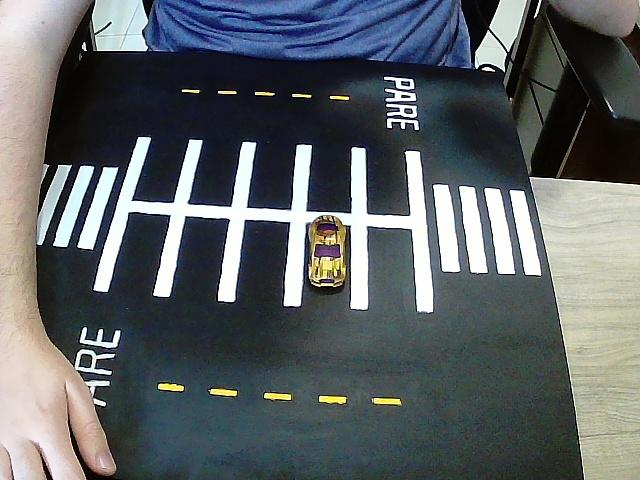Carro: (306, 215, 350, 289)
